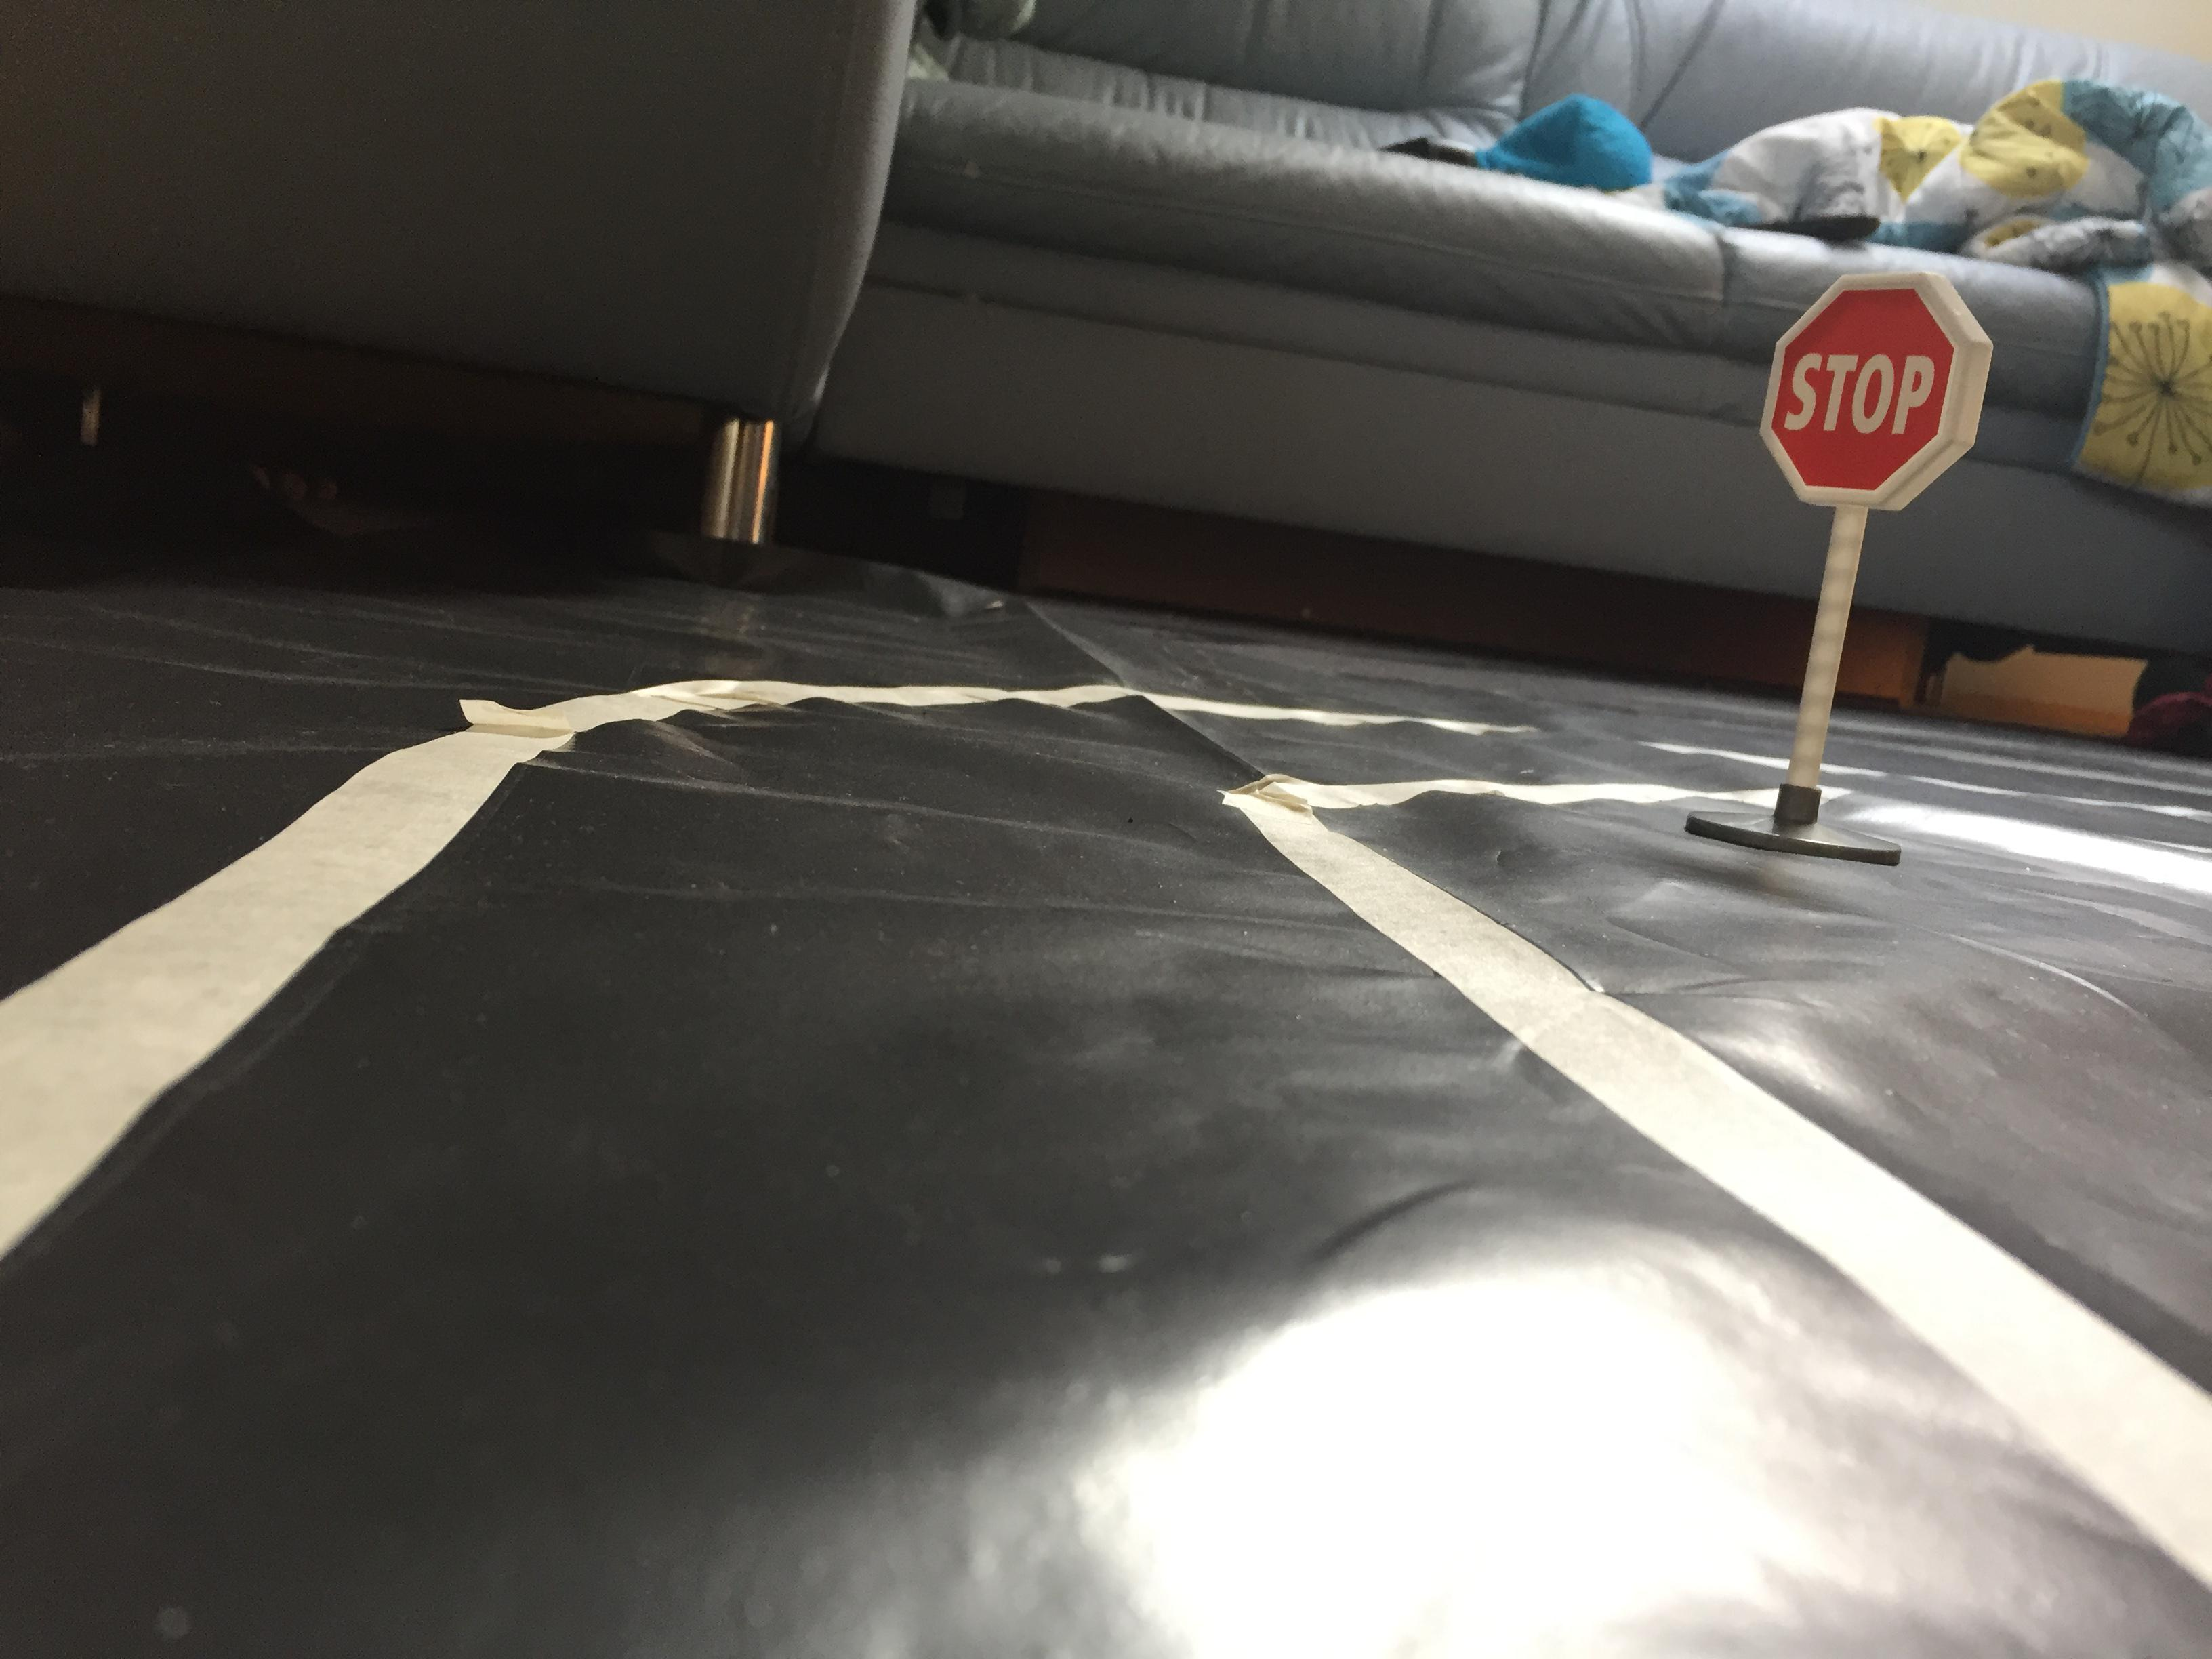stop: (1749, 263, 2005, 530)
